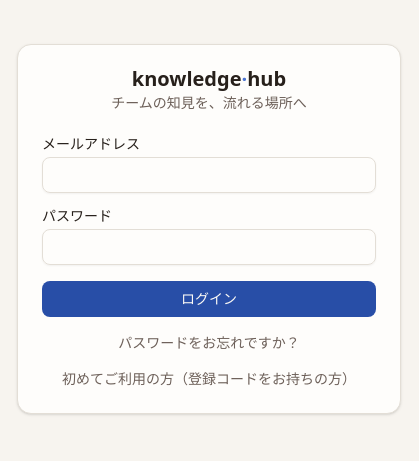
LoginPage › 失敗時にエラーメッセージを表示する
This screenshot has width=419, height=461.
Step 1. Type "a@example.com" into the field labelled "メールアドレス" → (209, 175), box [42,157,376,193]
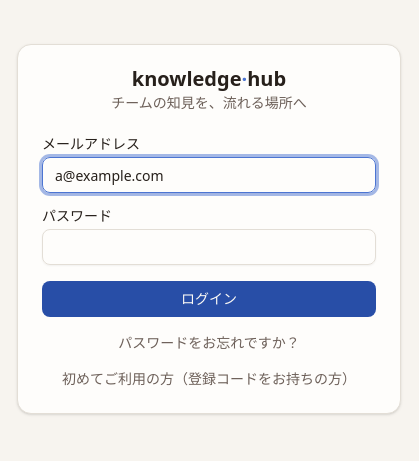
Step 2. Type "wrong-password-1" into the password field labelled "パスワード" → (209, 247), box [42,229,376,265]
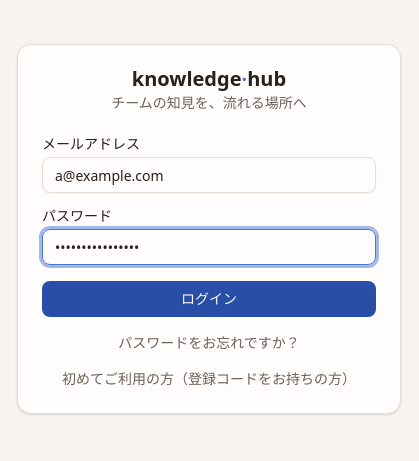
Step 3. Click the button "ログイン" → click(209, 299), box [42,281,376,317]
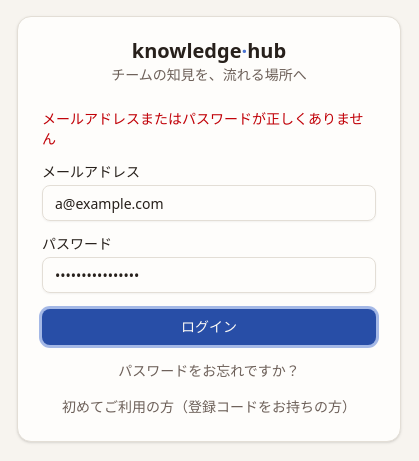
Result: the message shows "正しくありません" at [42,109,364,148]
